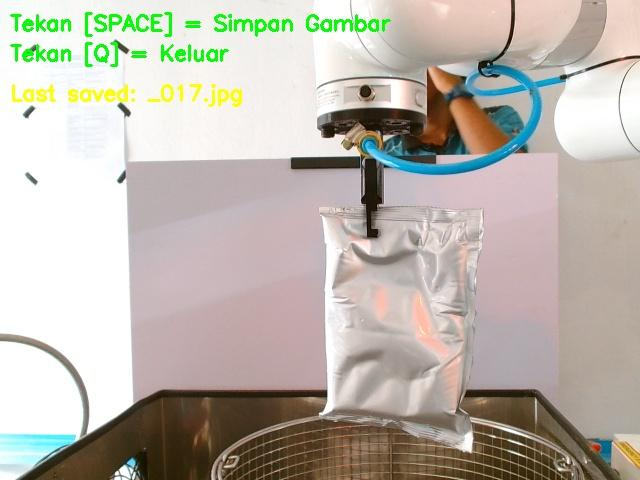retort-pouch: (315, 205, 481, 447)
